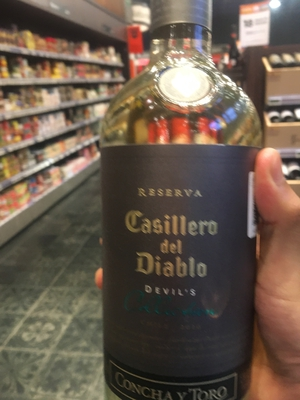casillero del diablo devils collection verde: (85, 12, 275, 393)
